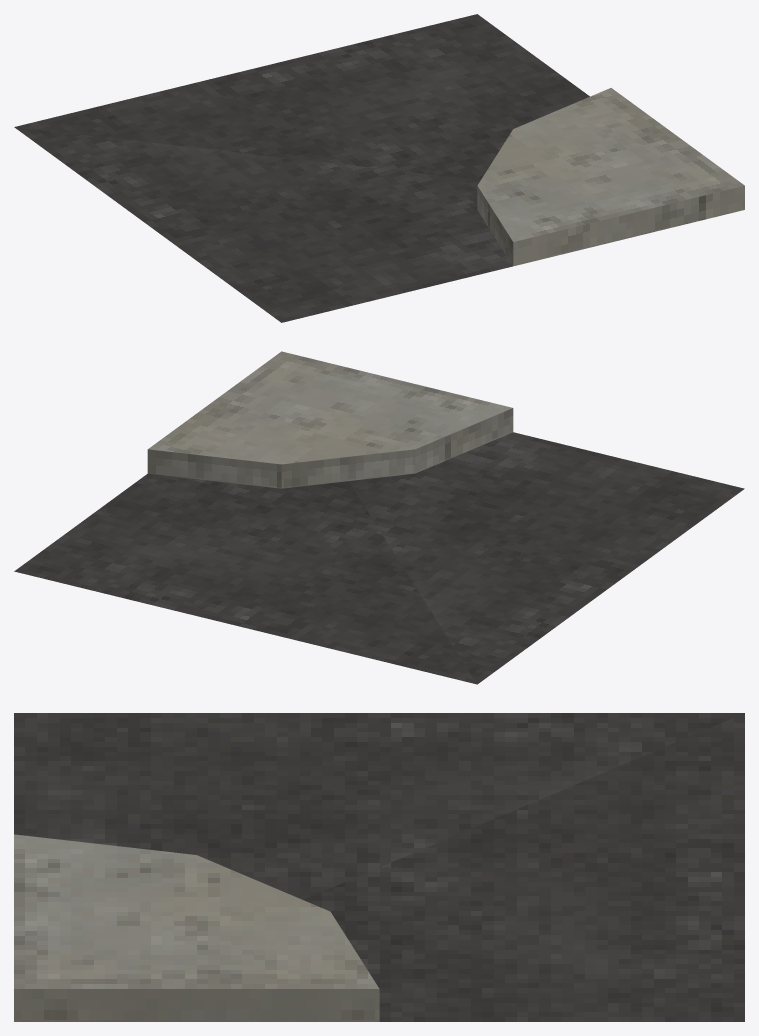
3 views of the same model, one above another, from view 1: azimuth 30°, elevation 25°; view 2: azimuth 150°, elevation 25°; view 3: azimuth 270°, elevation 25° (orthographic). The views are drawn at different scales.
Visible parts, largest first — view 1: road-asphalt-corner-outer; view 2: road-asphalt-corner-outer; view 3: road-asphalt-corner-outer.
Boxes of the visible parts, left/top/right/bottom form: road-asphalt-corner-outer: left=14, top=14, right=744, bottom=322; road-asphalt-corner-outer: left=14, top=351, right=744, bottom=684; road-asphalt-corner-outer: left=14, top=713, right=744, bottom=1021.
Bounding box in the file's own units: 1 × 0.05 × 1.
Materials: 2 (2 with a texture image).
